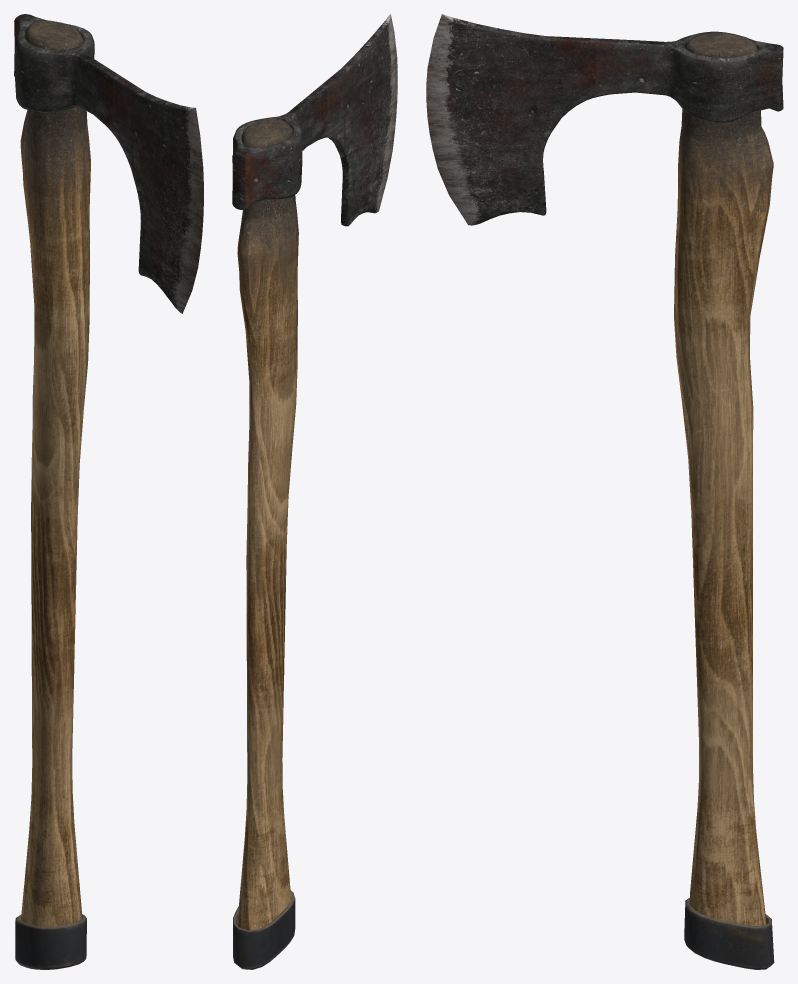
Rendered from wooden_axe_2k.gltf.
3 renders of one model, left to right at view 1: azimuth 30°, elevation 25°; view 2: azimuth 150°, elevation 25°; view 3: azimuth 270°, elevation 25°, orthographic. The views are drawn at different scales.
Visible parts, largest first — view 1: wooden_axe; view 2: wooden_axe; view 3: wooden_axe.
Boxes of the visible parts, box(x1,y1,x2,y2) form: wooden_axe: box(14, 14, 203, 969); wooden_axe: box(232, 14, 397, 969); wooden_axe: box(426, 14, 783, 969).
Bounding box in the file's own units: 0.0472 × 0.6303 × 0.2143.
Materials: 1 (1 with a texture image).
